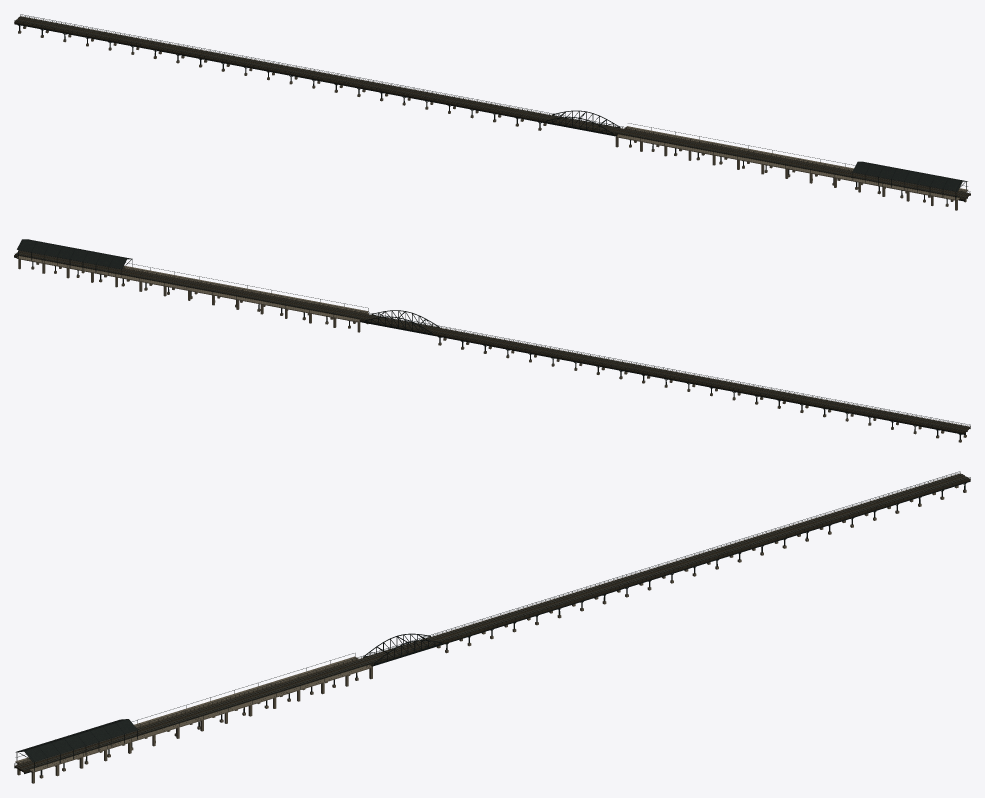
3 renders of one model, top to bottom at view 1: azimuth 30°, elevation 25°; view 2: azimuth 210°, elevation 25°; view 3: azimuth 270°, elevation 25°, orthographic. The views are drawn at different scales.
Parts seen in each view (by area): view 1: luchtspoor-0, luchtspoor-1, luchtspoor-3, luchtspoor-4, luchtspoor-2, luchtspoor-5; view 2: luchtspoor-0, luchtspoor-1, luchtspoor-3, luchtspoor-4, luchtspoor-2, luchtspoor-5; view 3: luchtspoor-0, luchtspoor-1, luchtspoor-4, luchtspoor-3, luchtspoor-2, luchtspoor-5.
Boxes of the visible parts, <box> form: luchtspoor-0: <box>14,16,970,200</box>; luchtspoor-1: <box>14,14,970,204</box>; luchtspoor-3: <box>15,17,969,197</box>; luchtspoor-4: <box>18,26,968,210</box>; luchtspoor-2: <box>17,17,969,198</box>; luchtspoor-5: <box>853,161,967,191</box>; luchtspoor-0: <box>14,250,970,433</box>; luchtspoor-1: <box>14,239,970,440</box>; luchtspoor-3: <box>16,250,969,431</box>; luchtspoor-4: <box>16,256,966,442</box>; luchtspoor-2: <box>15,250,969,431</box>; luchtspoor-5: <box>17,239,130,269</box>; luchtspoor-0: <box>14,473,970,772</box>; luchtspoor-1: <box>14,471,970,775</box>; luchtspoor-4: <box>15,485,966,783</box>; luchtspoor-3: <box>16,474,968,770</box>; luchtspoor-2: <box>16,474,968,770</box>; luchtspoor-5: <box>15,719,136,762</box>.
Bounding box in the file's own units: 355 × 15.6 × 480.
Materials: 7 (7 with a texture image).
